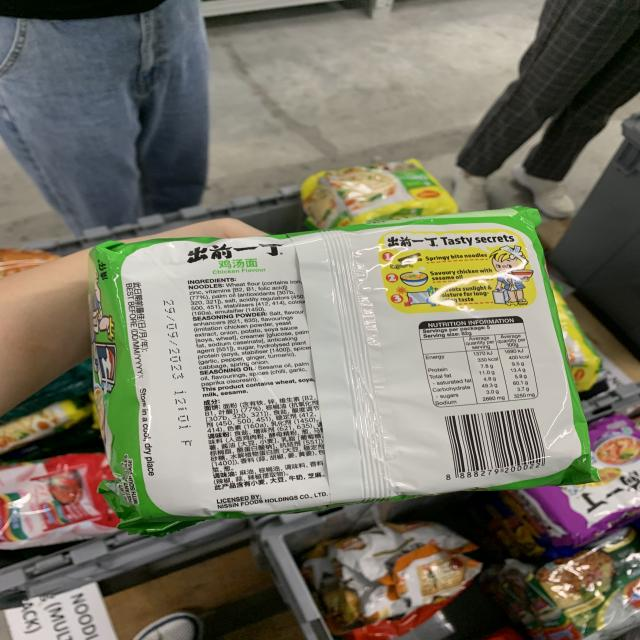object_name: (106, 244, 562, 492)
